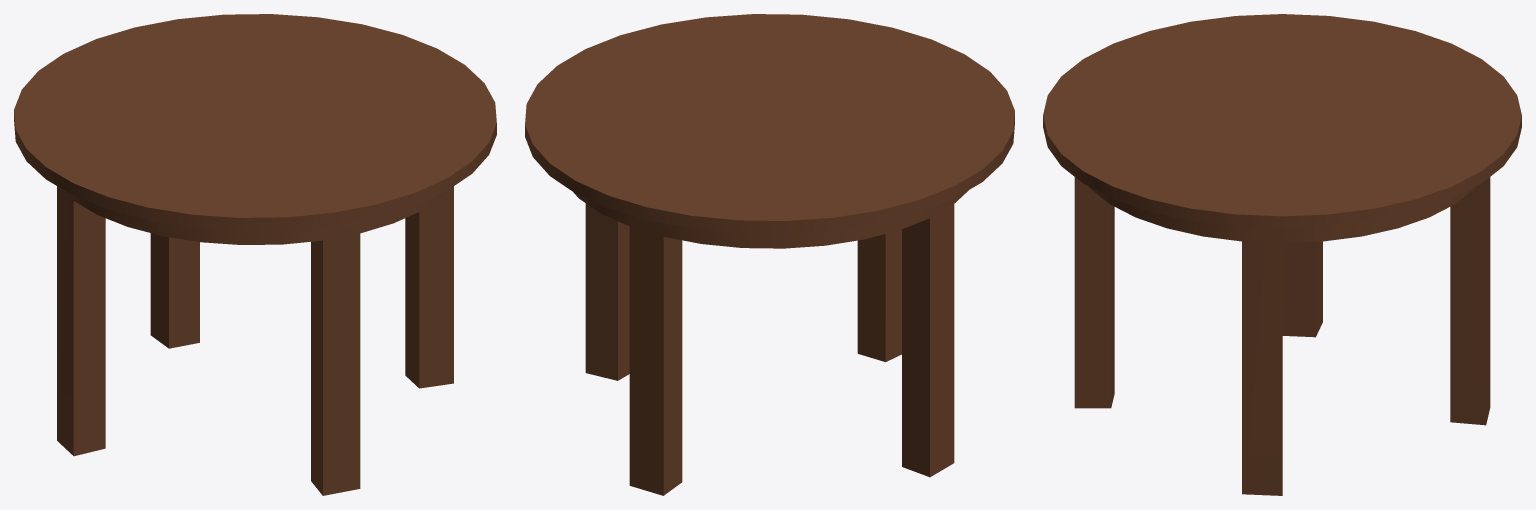
File: TableRonde_11.fbx
The picture shows the model from 3 angles, left to right: view 1: azimuth 30°, elevation 25°; view 2: azimuth 150°, elevation 25°; view 3: azimuth 270°, elevation 25°; orthographic projection. The views are drawn at different scales.
Parts seen in each view (by area): view 1: pCylinder1772; view 2: pCylinder1772; view 3: pCylinder1772.
Part boxes in pixels (x1=…): pCylinder1772: x1=14, y1=14, x2=496, y2=495; pCylinder1772: x1=525, y1=14, x2=1014, y2=495; pCylinder1772: x1=1043, y1=14, x2=1521, y2=495.
Bounding box in the file's own units: 45.25 × 30.55 × 45.25.
